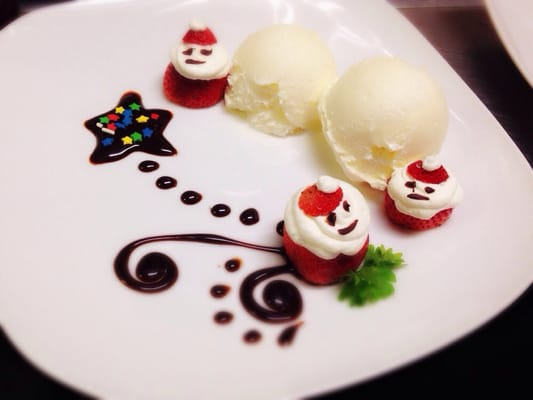curry: (338, 243, 408, 309)
